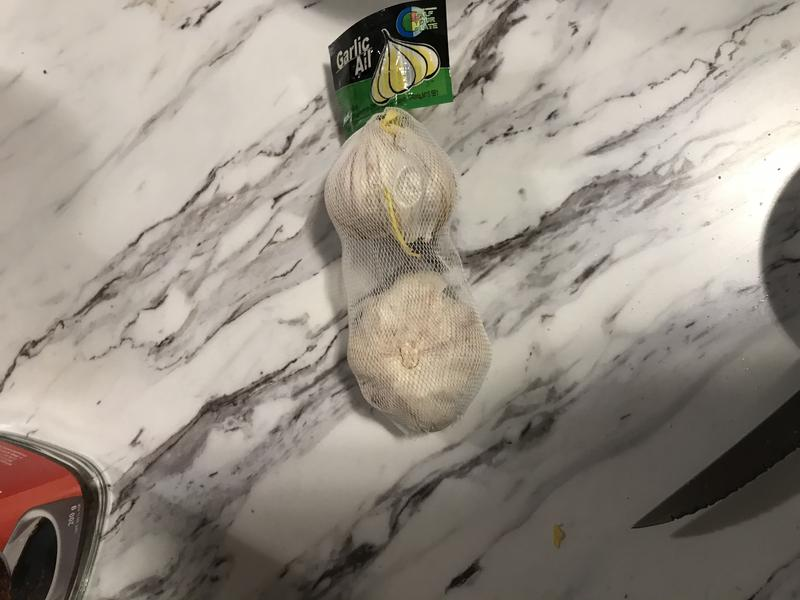garlic: (330, 268, 501, 438), (317, 119, 468, 247)
